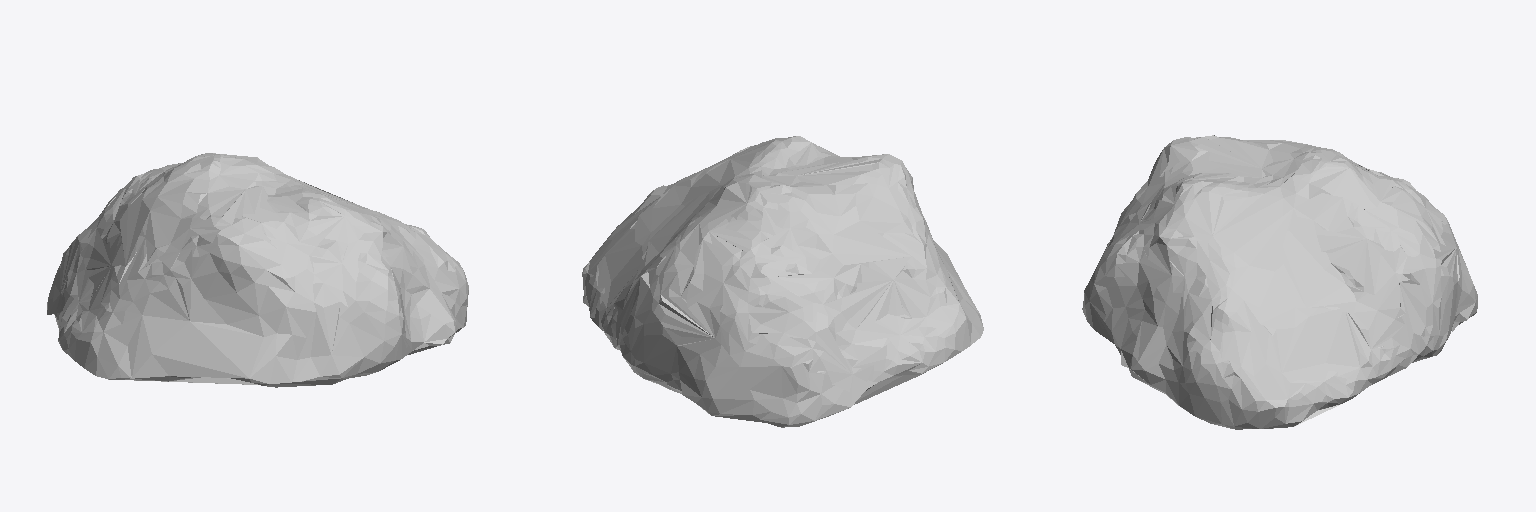
The model's file is rock1.obj.
The picture shows the model from 3 angles: view 1: azimuth 30°, elevation 25°; view 2: azimuth 150°, elevation 25°; view 3: azimuth 270°, elevation 25°; orthographic projection.
Parts seen in each view (by area): view 1: SculptLayer_Layer_1; view 2: SculptLayer_Layer_1; view 3: SculptLayer_Layer_1.
Part boxes in pixels (bbox=[...]): SculptLayer_Layer_1: bbox=[47, 153, 468, 387]; SculptLayer_Layer_1: bbox=[582, 136, 983, 427]; SculptLayer_Layer_1: bbox=[1082, 135, 1477, 429].
Bounding box in the file's own units: 38.46 × 17.44 × 35.07.